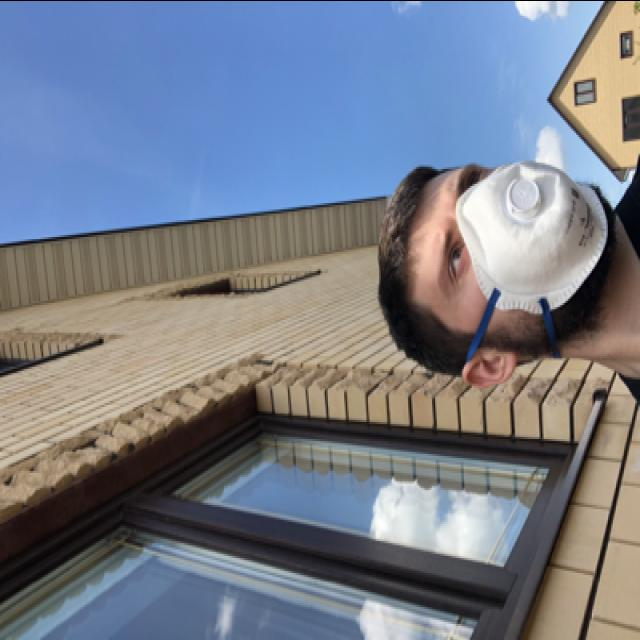mask: (432, 157, 614, 321)
